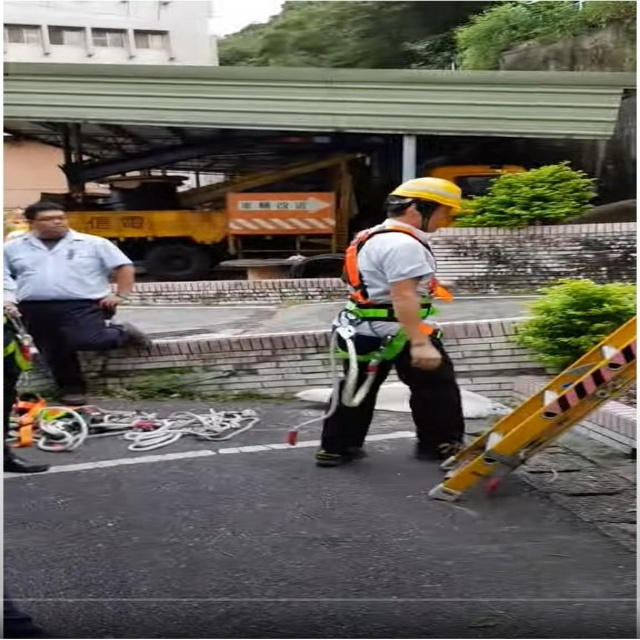Arnes_seguridad: (333, 225, 454, 364)
